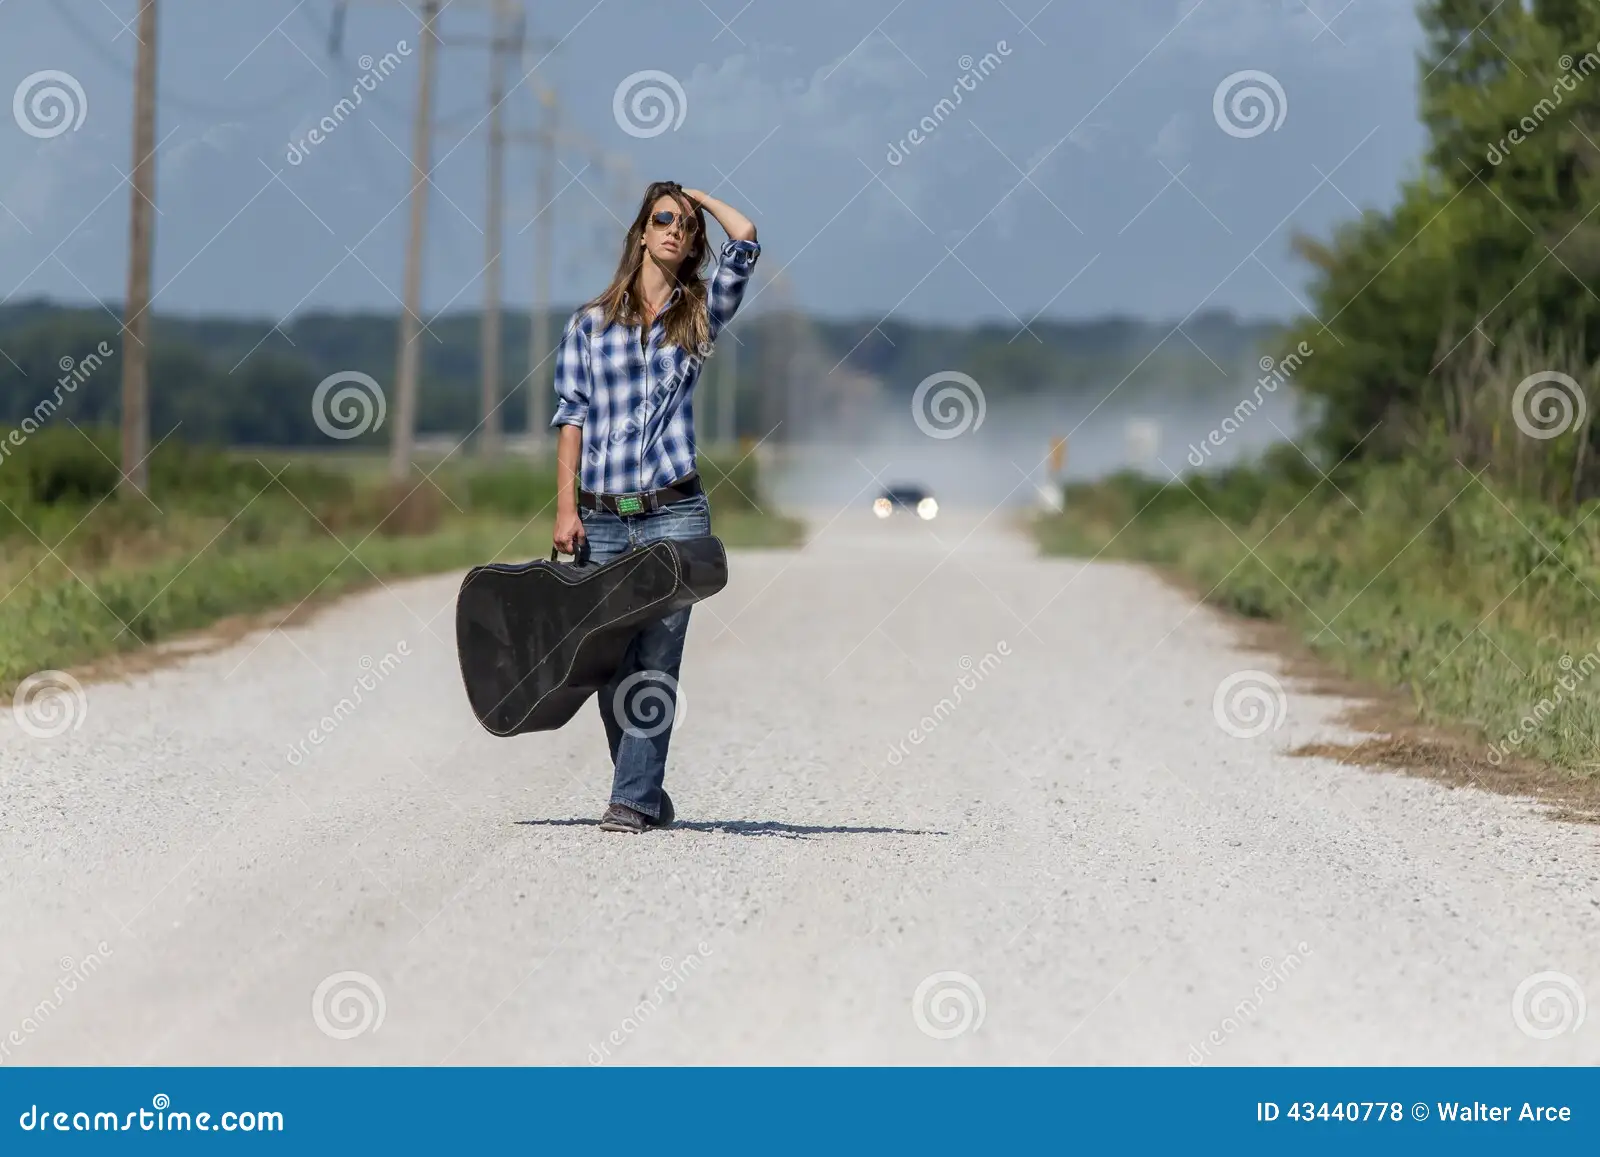person: (551, 180, 778, 817)
